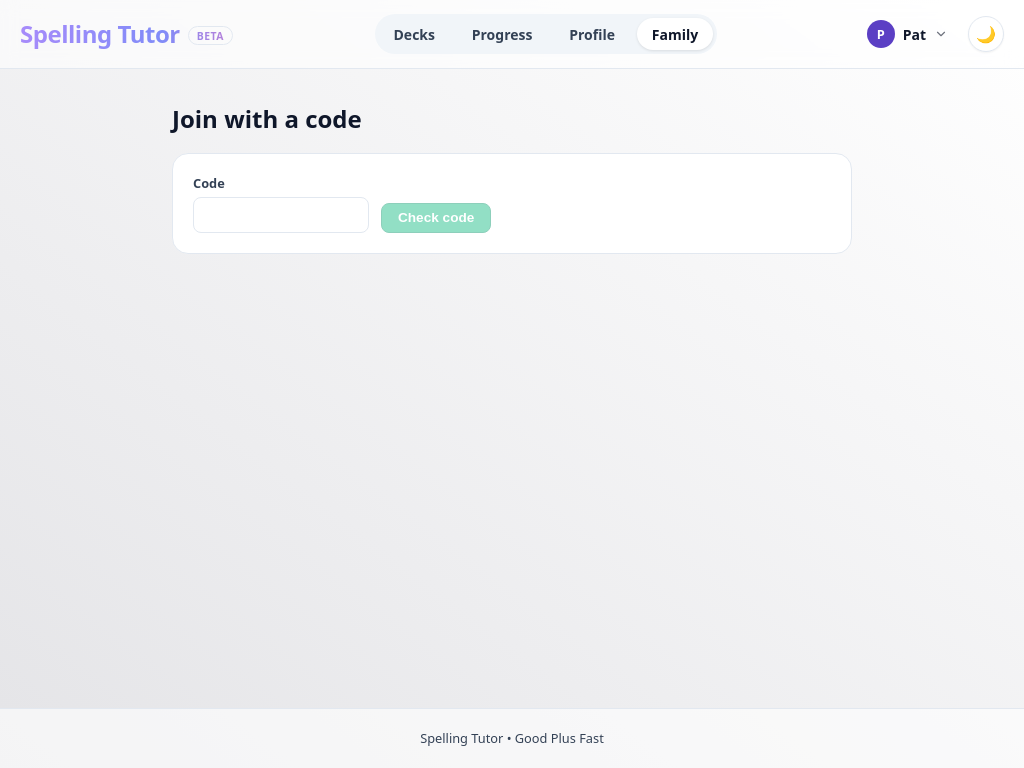
Test: Join page › shows the reason when a code does not work and accepts nothing
Type "WRONG234" into the field labelled "Code" at (281, 215), box [193,197,369,233]
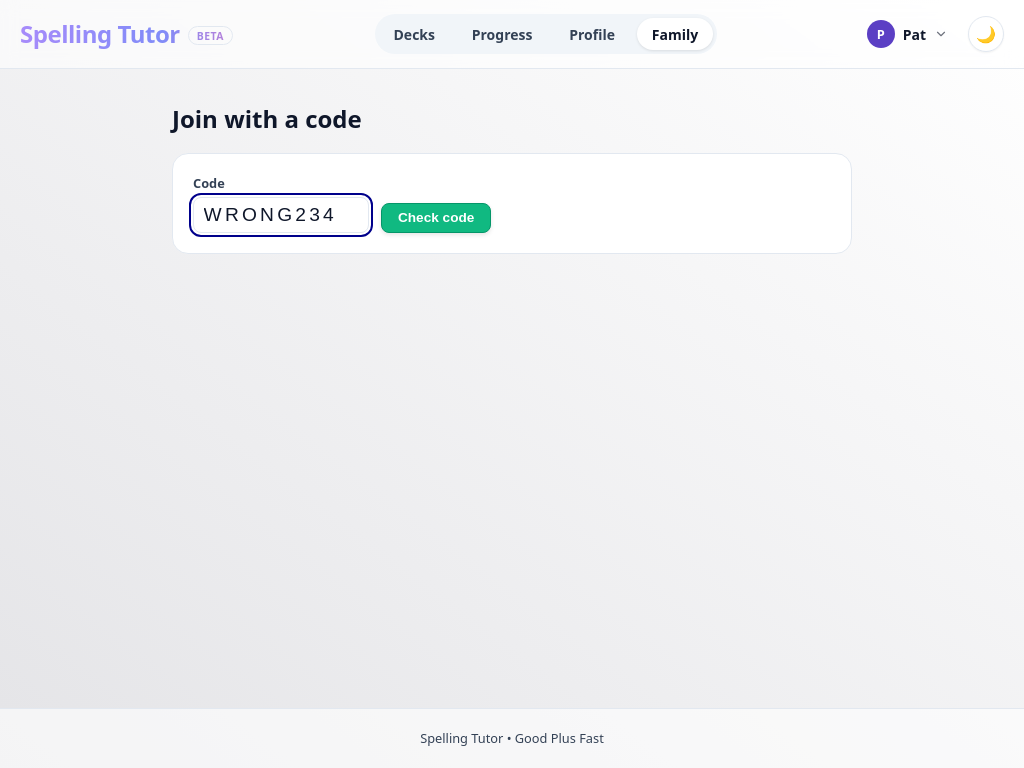
Click the button "Check code" at (436, 218), box [381,203,491,233]
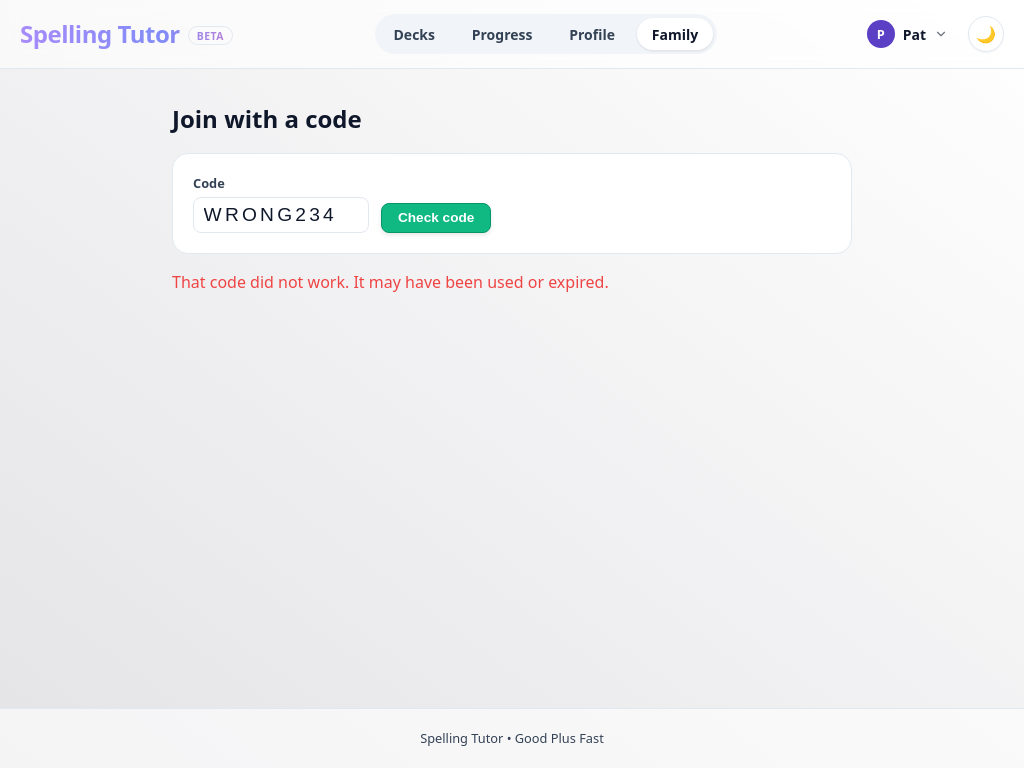
Expected: the message shows "That code did not work", [172,271,609,293]
